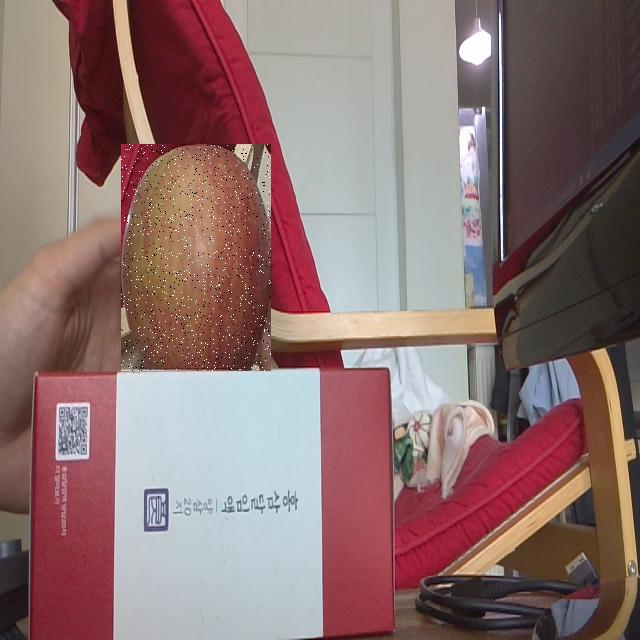apple: (121, 144, 271, 371)
